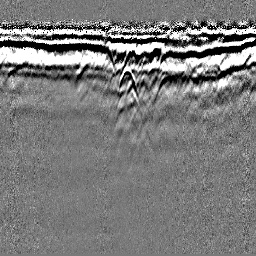cavity: (119, 64, 138, 99)
